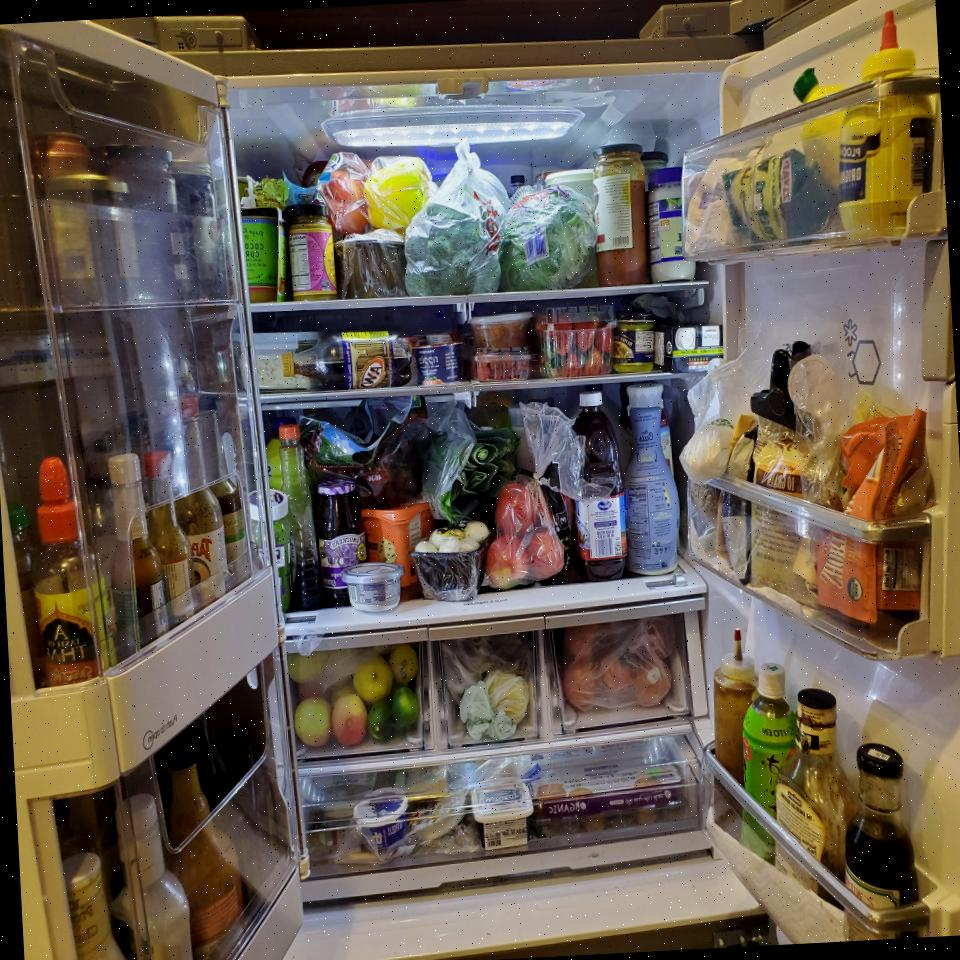Huevos: (528, 762, 689, 838)
Lechuga/Endivia: (496, 183, 601, 292)
Limón: (352, 654, 394, 704), (389, 644, 419, 684)
Manzana: (484, 534, 529, 588), (493, 482, 535, 534), (331, 693, 369, 747), (293, 698, 334, 748), (527, 530, 566, 580)
Queso: (393, 764, 450, 801)
Tomate: (634, 659, 674, 707), (562, 661, 600, 710), (598, 648, 635, 694), (564, 624, 598, 660)
